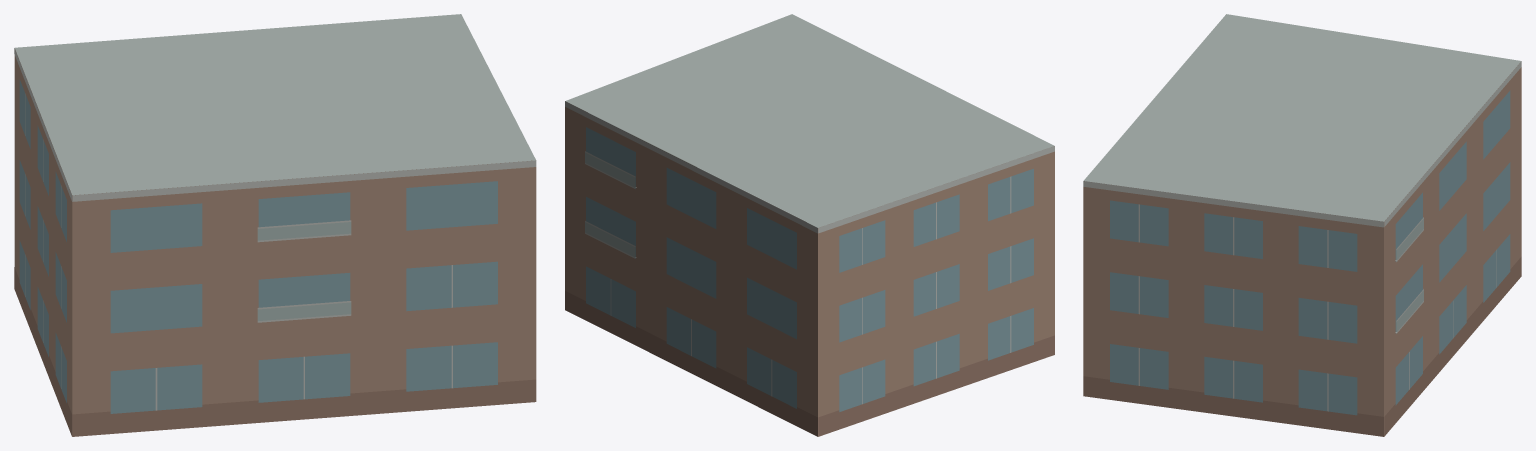
Rendered from survey-upis-32893554.glb.
3 views of the same model, side by side, from view 1: azimuth 30°, elevation 25°; view 2: azimuth 150°, elevation 25°; view 3: azimuth 270°, elevation 25° (orthographic). The views are drawn at different scales.
Parts seen in each view (by area): view 1: survey-upis-32893554.tmp; view 2: survey-upis-32893554.tmp; view 3: survey-upis-32893554.tmp.
Boxes of the visible parts, x1,y1,x2,y2 form: survey-upis-32893554.tmp: [14, 14, 536, 436]; survey-upis-32893554.tmp: [565, 14, 1054, 436]; survey-upis-32893554.tmp: [1083, 14, 1521, 436].
Size of the model in its own units: 18.63 by 9 by 16.62.
